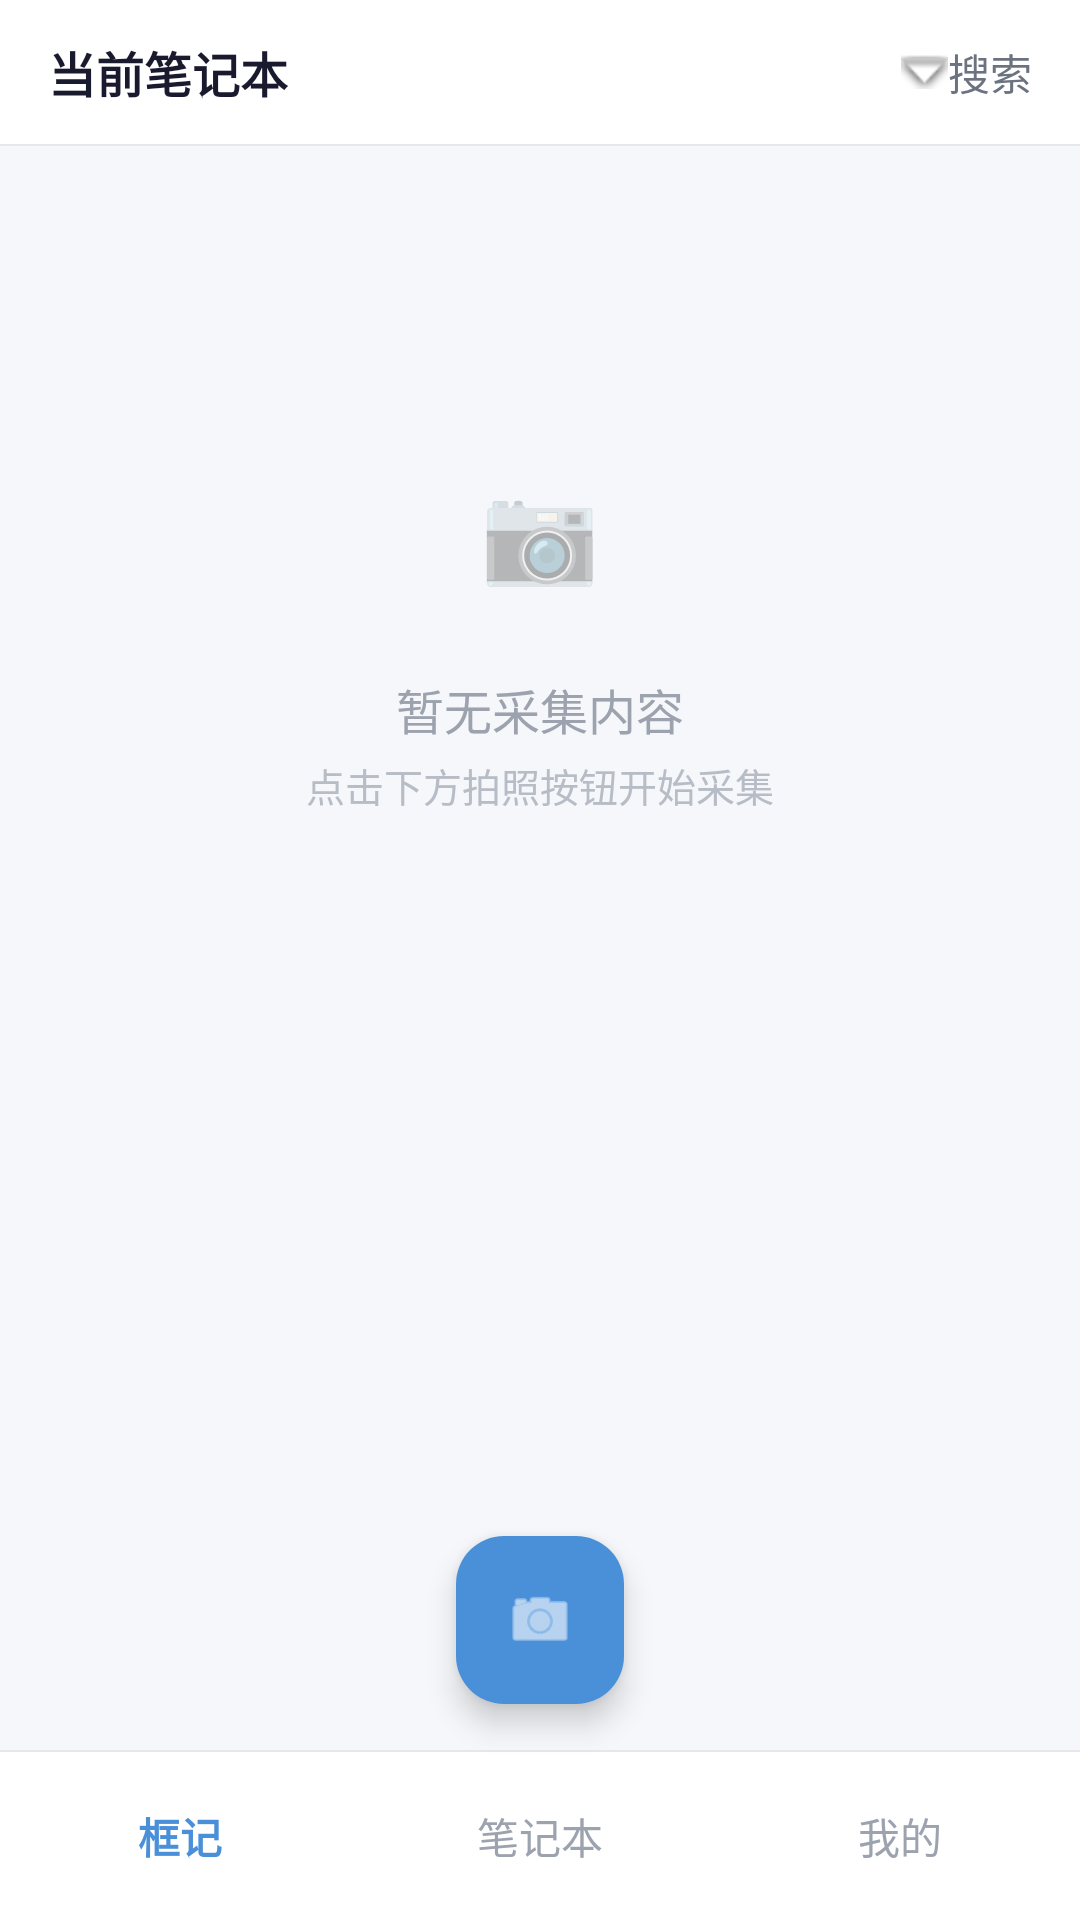

Where to tap for icons on this 1080px x 1920px app screen, as [x,y]:
拍照: [540,1620]
